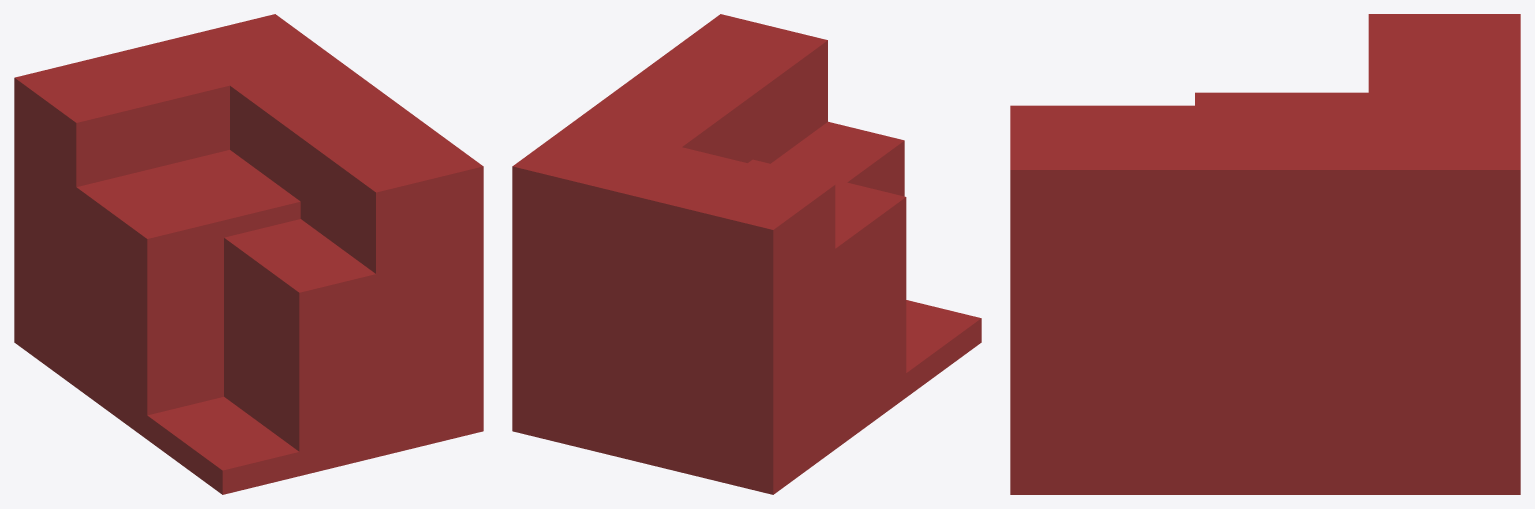
The model's file is Part Studio 1.gltf.glb.
3 renders of one model, left to right at view 1: azimuth 30°, elevation 25°; view 2: azimuth 150°, elevation 25°; view 3: azimuth 270°, elevation 25°, orthographic. The views are drawn at different scales.
Parts seen in each view (by area): view 1: mesh0_mesh_8, mesh0_mesh_6, mesh0_mesh_3, mesh0_mesh_9, mesh0_mesh_11, mesh0_mesh_7, mesh0_mesh_5, mesh0_mesh_4, mesh0_mesh_12, mesh0_mesh_10; view 2: mesh0_mesh_1, mesh0_mesh_6, mesh0_mesh_3, mesh0_mesh_7, mesh0_mesh_10, mesh0_mesh_5, mesh0_mesh_12, mesh0_mesh_11; view 3: mesh0_mesh, mesh0_mesh_3, mesh0_mesh_5.
Part boxes in pixels (bbox=[...]): mesh0_mesh_8: bbox=[222, 166, 483, 494]; mesh0_mesh_6: bbox=[14, 78, 222, 494]; mesh0_mesh_3: bbox=[15, 14, 482, 192]; mesh0_mesh_9: bbox=[147, 201, 300, 415]; mesh0_mesh_11: bbox=[224, 238, 299, 451]; mesh0_mesh_7: bbox=[230, 86, 375, 273]; mesh0_mesh_5: bbox=[77, 150, 300, 238]; mesh0_mesh_4: bbox=[76, 85, 229, 186]; mesh0_mesh_12: bbox=[147, 397, 298, 470]; mesh0_mesh_10: bbox=[224, 219, 375, 292]; mesh0_mesh_1: bbox=[512, 166, 773, 494]; mesh0_mesh_6: bbox=[773, 185, 981, 494]; mesh0_mesh_3: bbox=[513, 14, 834, 229]; mesh0_mesh_7: bbox=[682, 40, 827, 163]; mesh0_mesh_10: bbox=[771, 121, 904, 182]; mesh0_mesh_5: bbox=[748, 159, 905, 248]; mesh0_mesh_12: bbox=[906, 300, 980, 372]; mesh0_mesh_11: bbox=[847, 141, 904, 196]; mesh0_mesh: bbox=[1010, 170, 1520, 494]; mesh0_mesh_3: bbox=[1010, 14, 1520, 169]; mesh0_mesh_5: bbox=[1195, 92, 1368, 105].
Size of the model in its own units: 0.1234 by 0.1197 by 0.1705.
